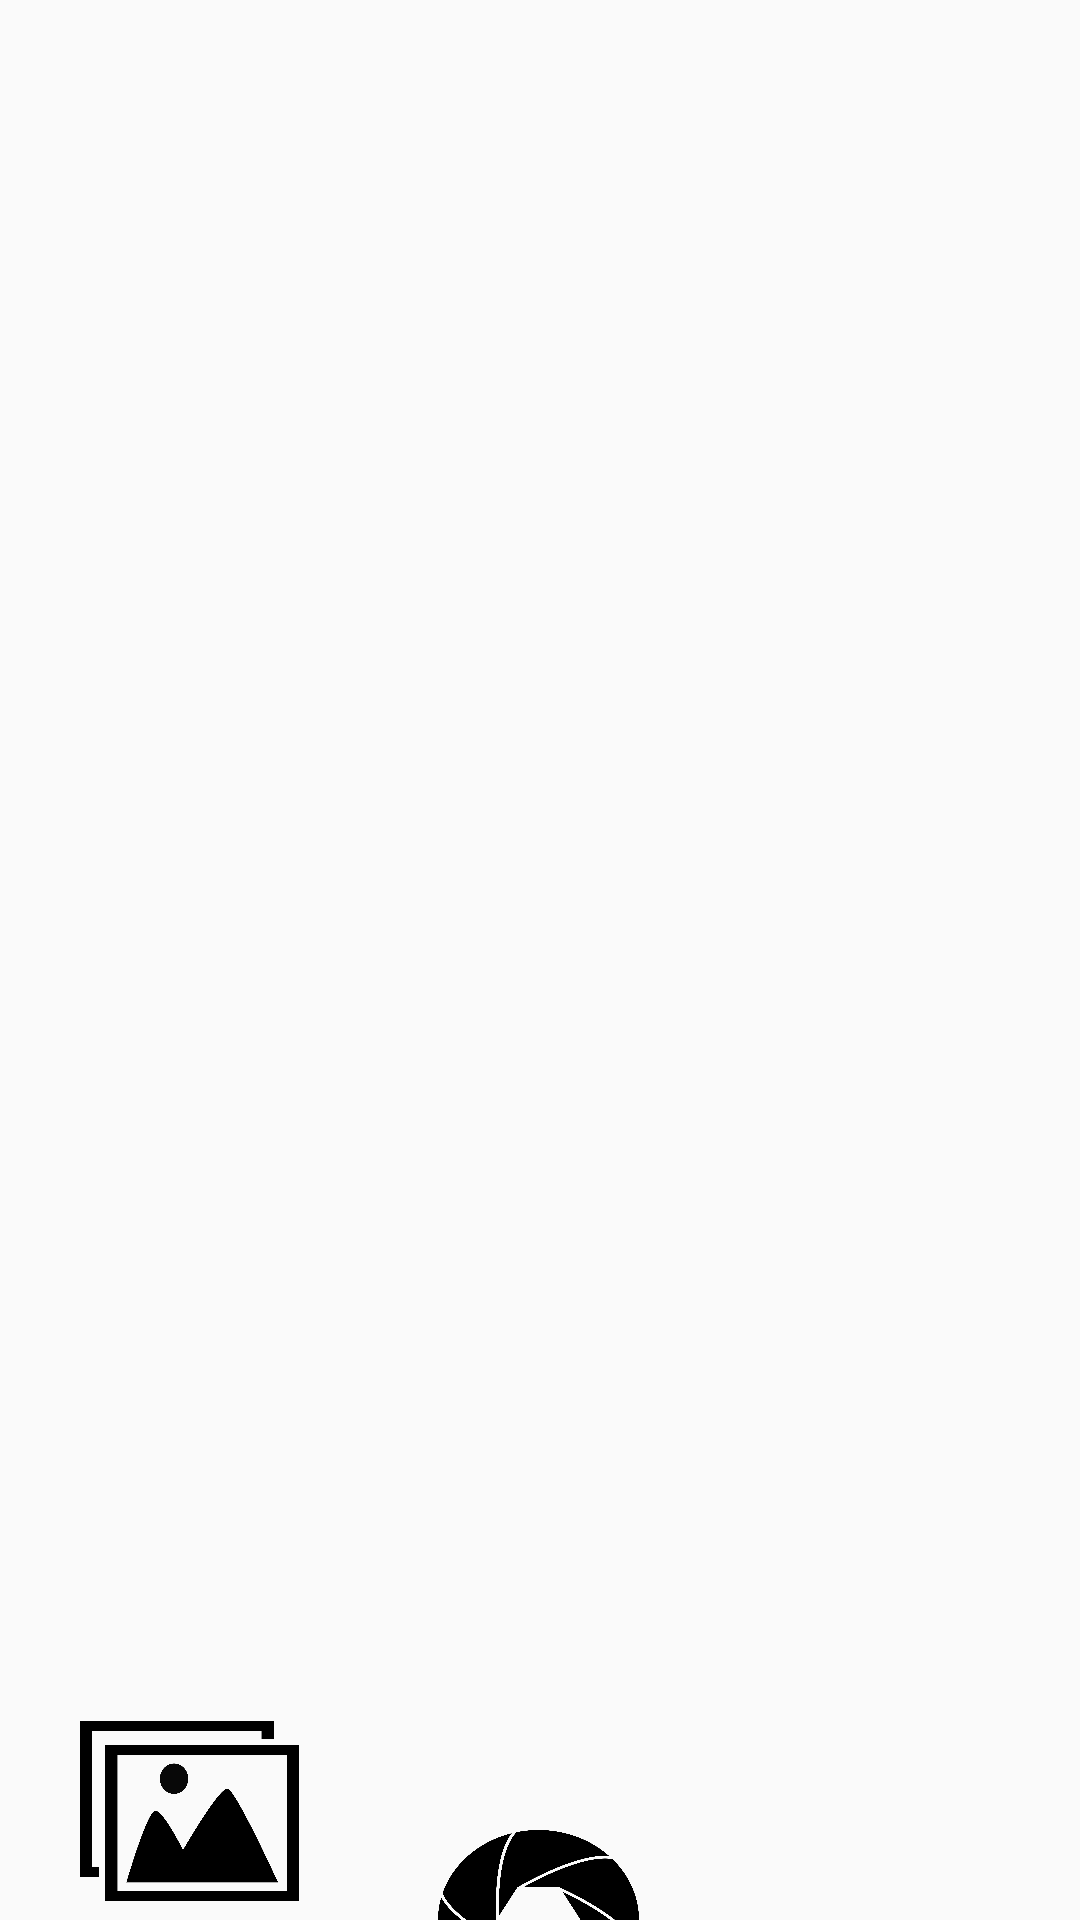

Where to tap for icons on this 1080px x 1920px app screen, as point (x, y):
gallery: point (189, 1811)
